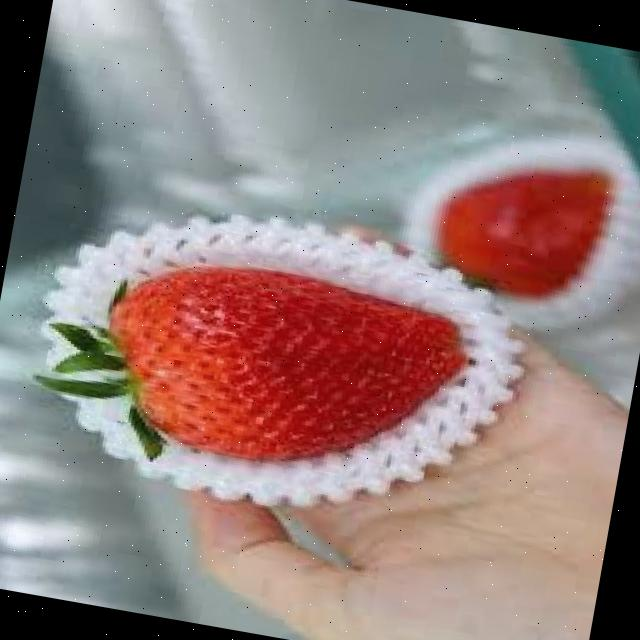strawberry: (87, 243, 473, 494), (422, 144, 614, 310)
